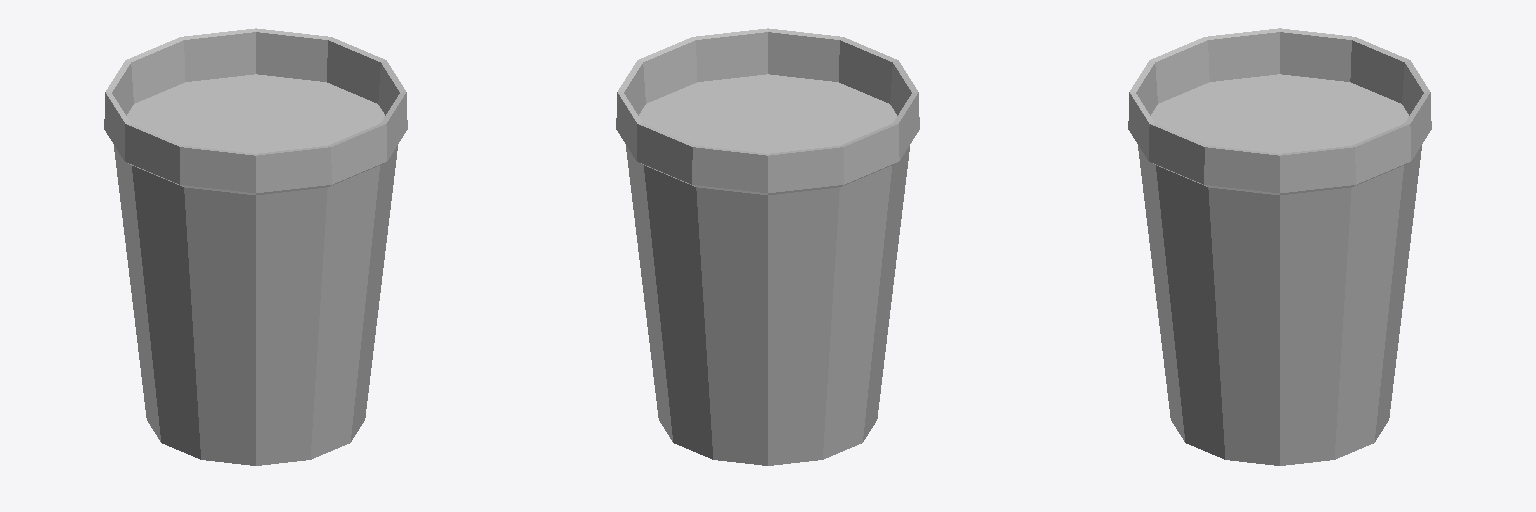
Rendered from firebucket.obj.
3 renders of one model, left to right at view 1: azimuth 30°, elevation 25°; view 2: azimuth 150°, elevation 25°; view 3: azimuth 270°, elevation 25°, orthographic.
Size of the model in its own units: 139 by 166 by 139.